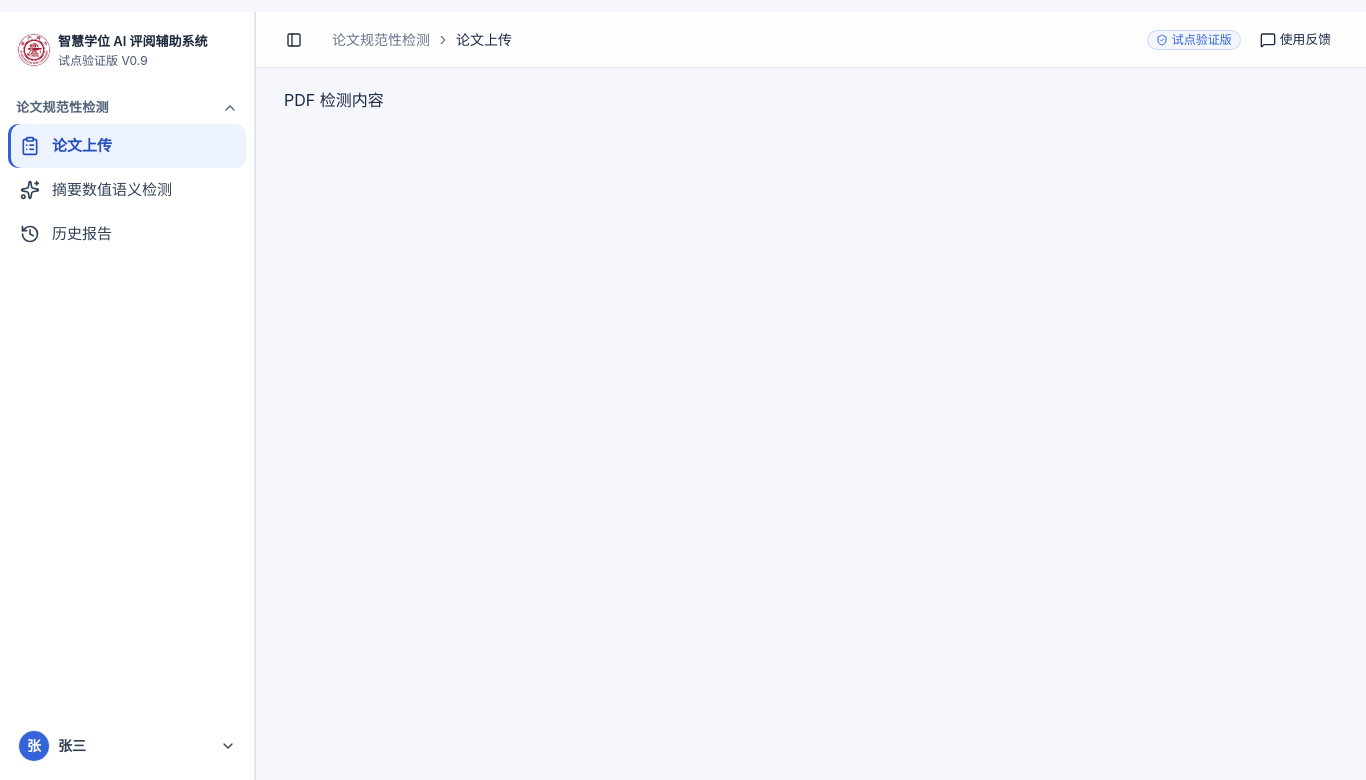
Scenario: AppShell shadcn layout › shows the campus name in the account button and menu without role or scope captions
Click the button "张 张三": (127, 746) top-left (10, 722), bottom-right (244, 770)
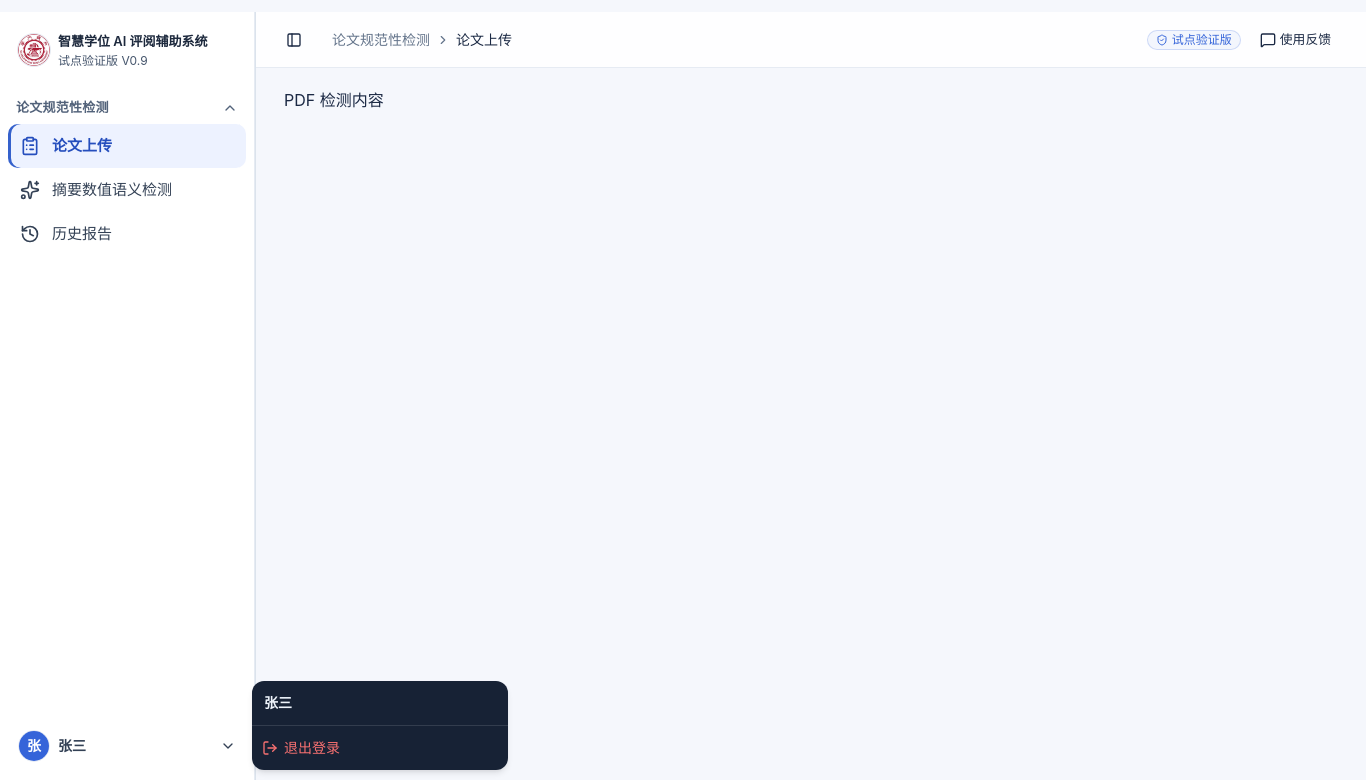
Expected: the menu does not show "学生", top-left (252, 681), bottom-right (508, 770)
Expected: the menu shows "张三", top-left (264, 694), bottom-right (292, 711)
